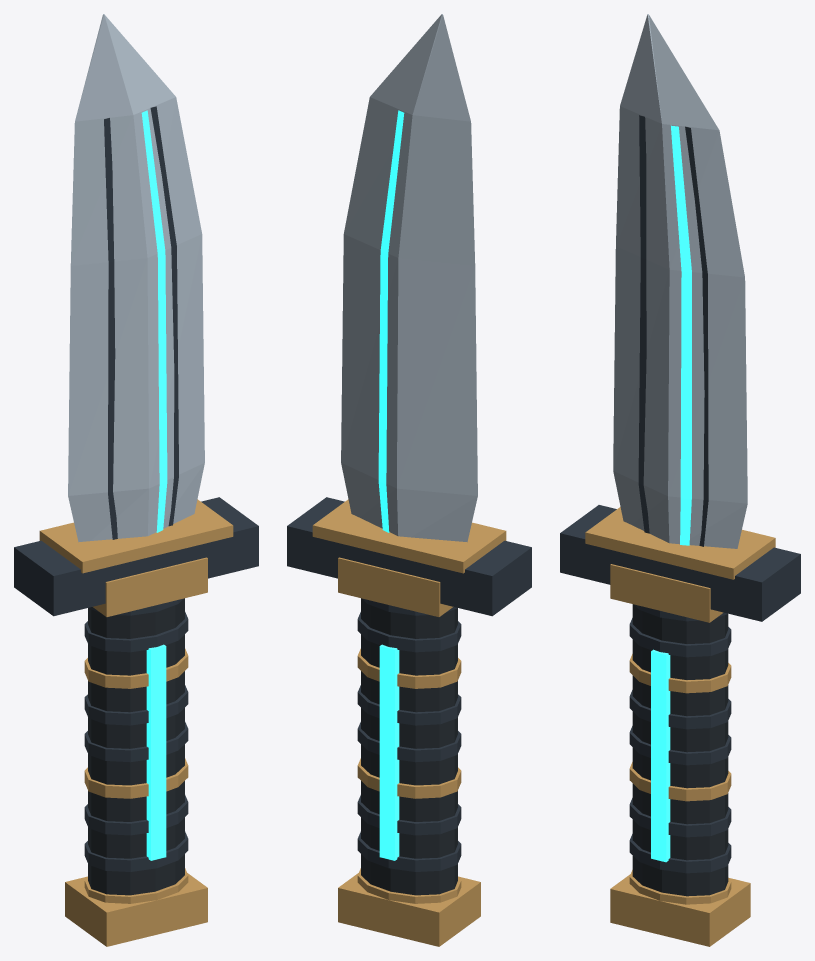
The model's file is glacier_fang_knife.glb.
3 renders of one model, left to right at view 1: azimuth 30°, elevation 25°; view 2: azimuth 150°, elevation 25°; view 3: azimuth 330°, elevation 25°, orthographic.
Visible parts, largest first — view 1: Forged beveled blade, Grip core, Crossguard, Grip collar -0.0575, Guard trim, Spine1, Grip inlay 1, Grip collar 0.0575, Energy channel1, Grip wrap 07, Grip wrap 01, Grip wrap 06 (+5 smaller); view 2: Forged beveled blade, Grip core, Crossguard, Grip collar -0.0575, Guard trim, Grip inlay -1, Grip collar 0.0575, Energy channel-1, Grip wrap 07, Grip wrap 01, Grip wrap 06, Grip wrap 03 (+4 smaller); view 3: Forged beveled blade, Grip core, Crossguard, Grip collar -0.0575, Guard trim, Spine1, Energy channel1, Grip inlay 1, Grip collar 0.0575, Grip wrap 07, Grip wrap 01, Grip wrap 02 (+5 smaller).
Part boxes in pixels (left/top/right/bottom): Forged beveled blade: left=68, top=14, right=204, bottom=542; Grip core: left=88, top=598, right=184, bottom=895; Crossguard: left=14, top=497, right=258, bottom=616; Grip collar -0.0575: left=65, top=873, right=207, bottom=946; Guard trim: left=39, top=499, right=233, bottom=573; Spine1: left=104, top=106, right=178, bottom=539; Grip inlay 1: left=146, top=644, right=166, bottom=860; Grip collar 0.0575: left=92, top=557, right=207, bottom=616; Energy channel1: left=141, top=110, right=167, bottom=532; Grip wrap 07: left=84, top=612, right=188, bottom=652; Grip wrap 01: left=84, top=831, right=188, bottom=871; Grip wrap 06: left=84, top=648, right=188, bottom=688; Forged beveled blade: left=341, top=14, right=477, bottom=542; Grip core: left=361, top=598, right=457, bottom=895; Crossguard: left=287, top=497, right=531, bottom=616; Grip collar -0.0575: left=338, top=873, right=480, bottom=946; Guard trim: left=312, top=499, right=506, bottom=573; Grip inlay -1: left=379, top=644, right=399, bottom=860; Grip collar 0.0575: left=338, top=557, right=453, bottom=616; Energy channel-1: left=378, top=110, right=404, bottom=532; Grip wrap 07: left=357, top=612, right=461, bottom=652; Grip wrap 01: left=357, top=831, right=461, bottom=871; Grip wrap 06: left=357, top=648, right=461, bottom=688; Grip wrap 03: left=357, top=758, right=461, bottom=798; Forged beveled blade: left=613, top=14, right=747, bottom=548; Grip core: left=632, top=604, right=728, bottom=896; Crossguard: left=560, top=505, right=800, bottom=621; Grip collar -0.0575: left=610, top=874, right=750, bottom=946; Guard trim: left=585, top=507, right=775, bottom=579; Spine1: left=638, top=115, right=708, bottom=546; Energy channel1: left=671, top=125, right=691, bottom=545; Grip inlay 1: left=651, top=649, right=670, bottom=862; Grip collar 0.0575: left=610, top=564, right=723, bottom=622; Grip wrap 07: left=629, top=618, right=731, bottom=657; Grip wrap 01: left=629, top=834, right=731, bottom=873; Grip wrap 02: left=629, top=798, right=731, bottom=837.
Size of the model in its own units: 0.075 by 0.3185 by 0.0281.
